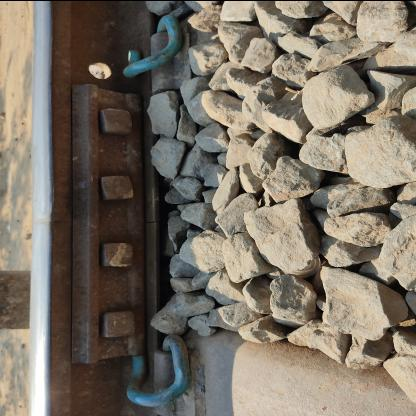Non Defective 1: (103, 290, 239, 415), (103, 1, 215, 89)
Non Defective 3: (26, 78, 182, 382)
